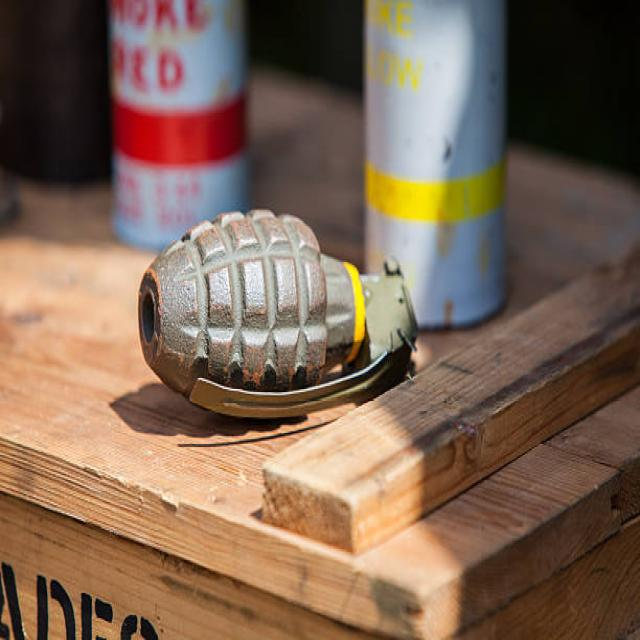grenade: (131, 204, 425, 438)
